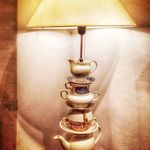cups: (65, 57, 102, 78)
